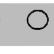no answer: (25, 8, 50, 31)
